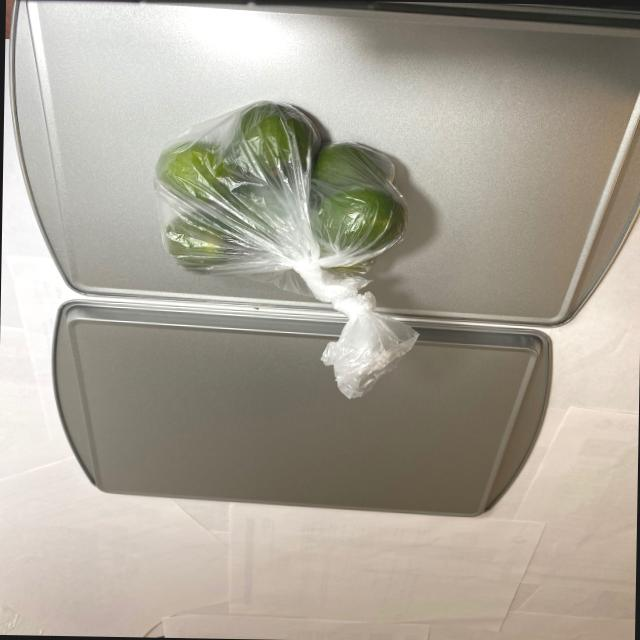lemon: (154, 101, 416, 285)
